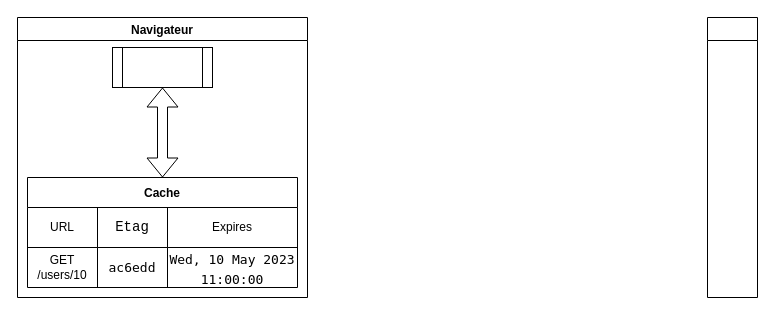
This 775x315 diagram has some shape labels left out. Each missing label, with the centre of its shape:
"Page" belongs at (x=162, y=67).
"Server" belongs at (x=732, y=157).
